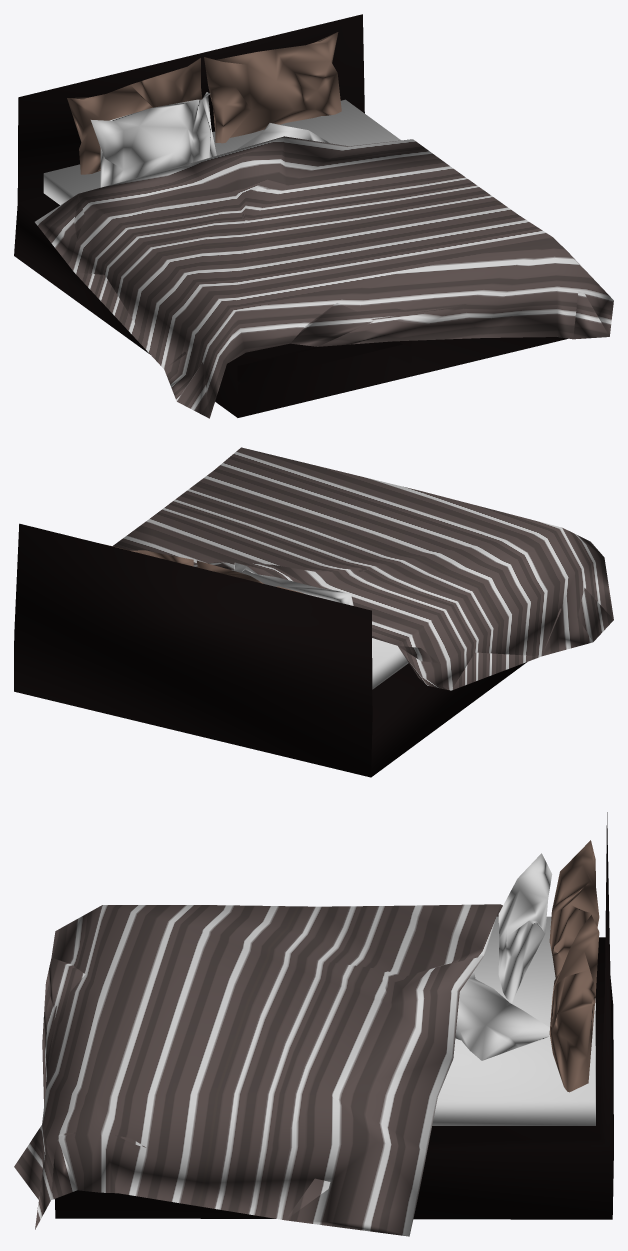
3 views of the same model, one above another, from view 1: azimuth 30°, elevation 25°; view 2: azimuth 150°, elevation 25°; view 3: azimuth 270°, elevation 25° (orthographic). The views are drawn at different scales.
Parts seen in each view (by area): view 1: Bed; view 2: Bed; view 3: Bed.
Part boxes in pixels (x1=…): Bed: x1=14, y1=14, x2=613, y2=418; Bed: x1=14, y1=447, x2=613, y2=777; Bed: x1=14, y1=812, x2=613, y2=1236.
Size of the model in its own units: 211 by 82.15 by 217.
